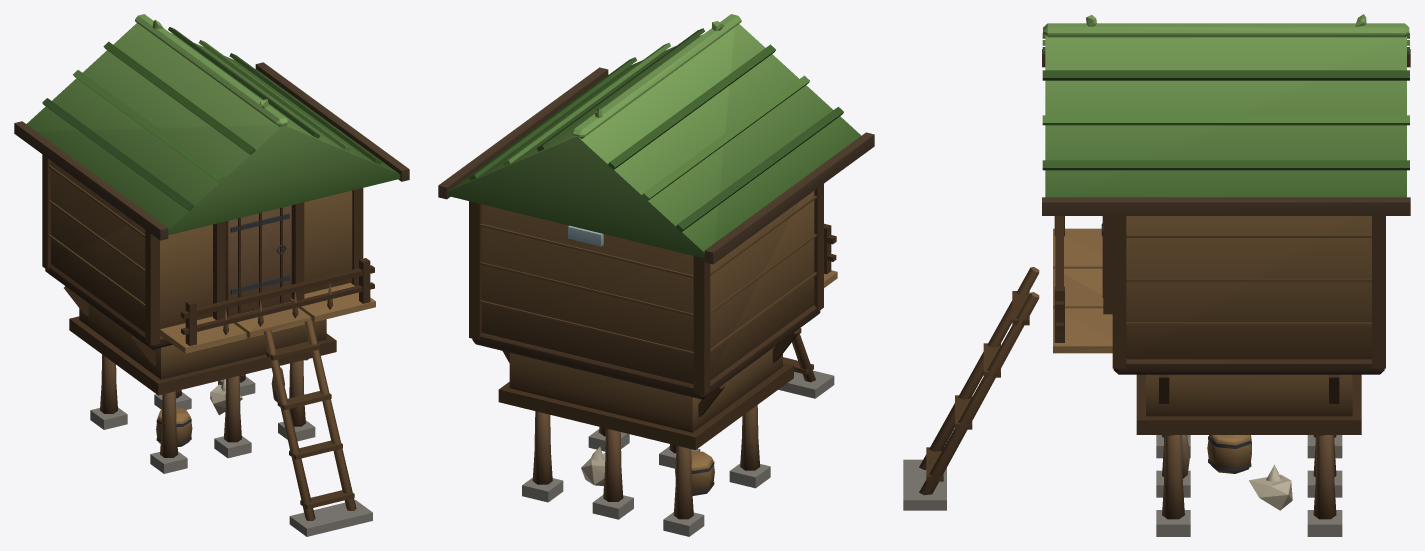
Rendered from stabbur-storehouse.glb.
3 views of the same model, side by side, from view 1: azimuth 30°, elevation 25°; view 2: azimuth 150°, elevation 25°; view 3: azimuth 270°, elevation 25° (orthographic). The views are drawn at different scales.
Parts seen in each view (by area): view 1: stabbur_storehouse; view 2: stabbur_storehouse; view 3: stabbur_storehouse.
Part boxes in pixels (x1,y1,x2,y2): stabbur_storehouse: [14, 14, 409, 536]; stabbur_storehouse: [438, 14, 874, 536]; stabbur_storehouse: [903, 14, 1410, 536].
Size of the model in its own units: 3.16 by 4.58 by 4.42.
